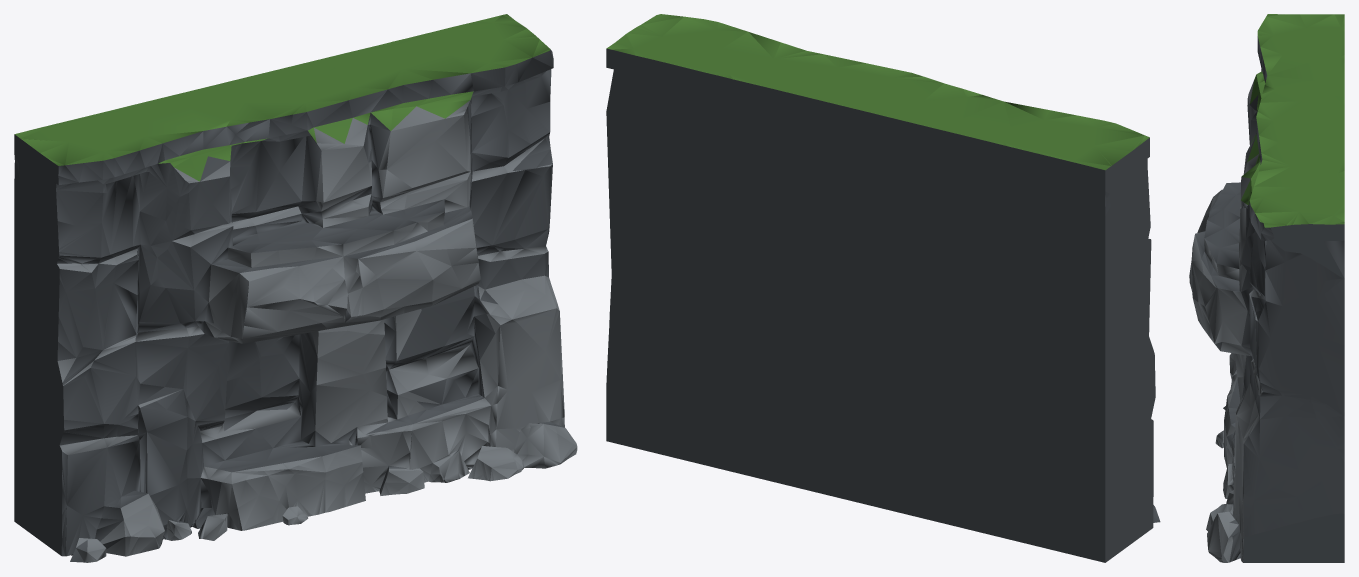
Rendered from mdvl_nature_cliff_02.glb.
3 views of the same model, side by side, from view 1: azimuth 30°, elevation 25°; view 2: azimuth 150°, elevation 25°; view 3: azimuth 270°, elevation 25° (orthographic). The views are drawn at different scales.
Parts seen in each view (by area): view 1: mdvl_nature_cliff_02; view 2: mdvl_nature_cliff_02; view 3: mdvl_nature_cliff_02.
Boxes of the visible parts, <box> form: mdvl_nature_cliff_02: <box>14,14,577,562</box>; mdvl_nature_cliff_02: <box>606,14,1160,562</box>; mdvl_nature_cliff_02: <box>1189,14,1344,562</box>.
Bounding box in the file's own units: 4 × 3.01 × 1.25.
1 material, 1 textured.
